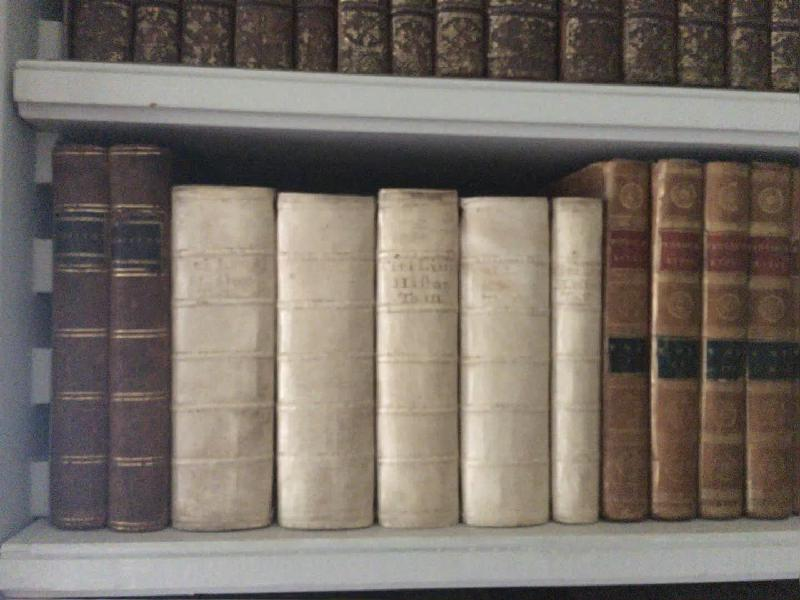Kk4-1_2: (37, 131, 178, 537)
Kk4-3_7: (168, 172, 611, 534)
Kk4-8_13: (599, 145, 800, 525)
